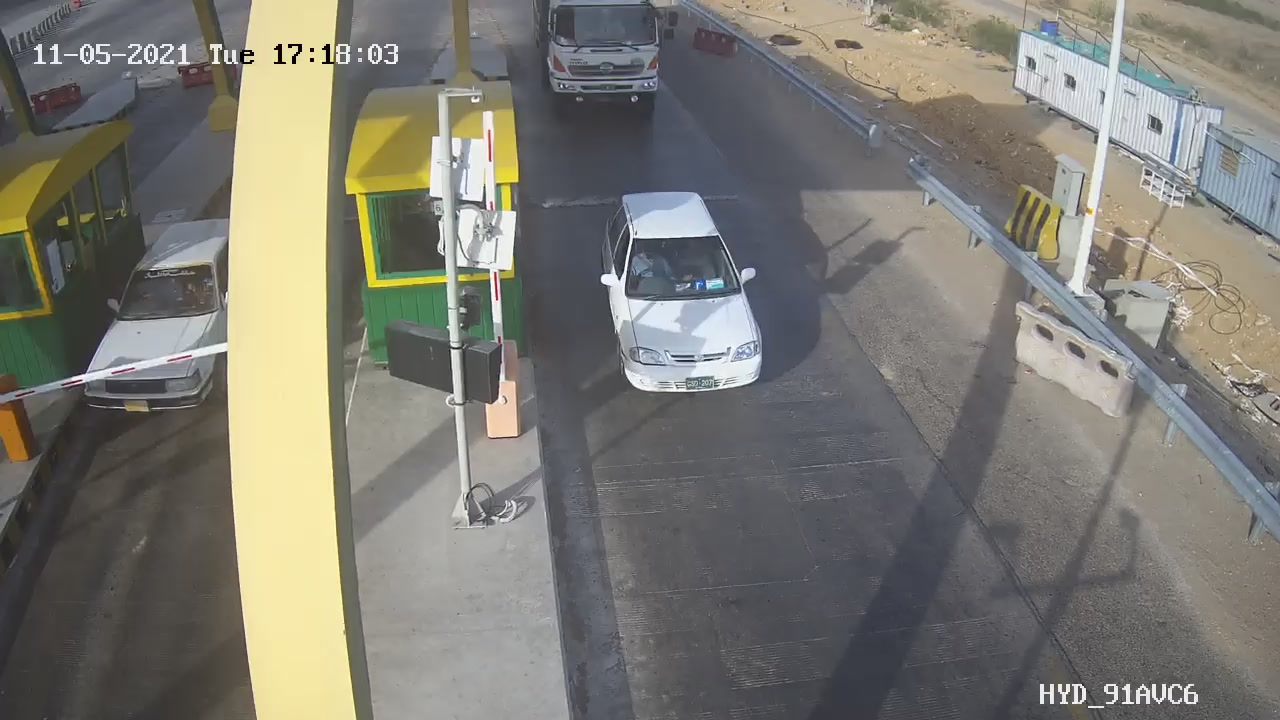F1: (578, 177, 787, 408)
